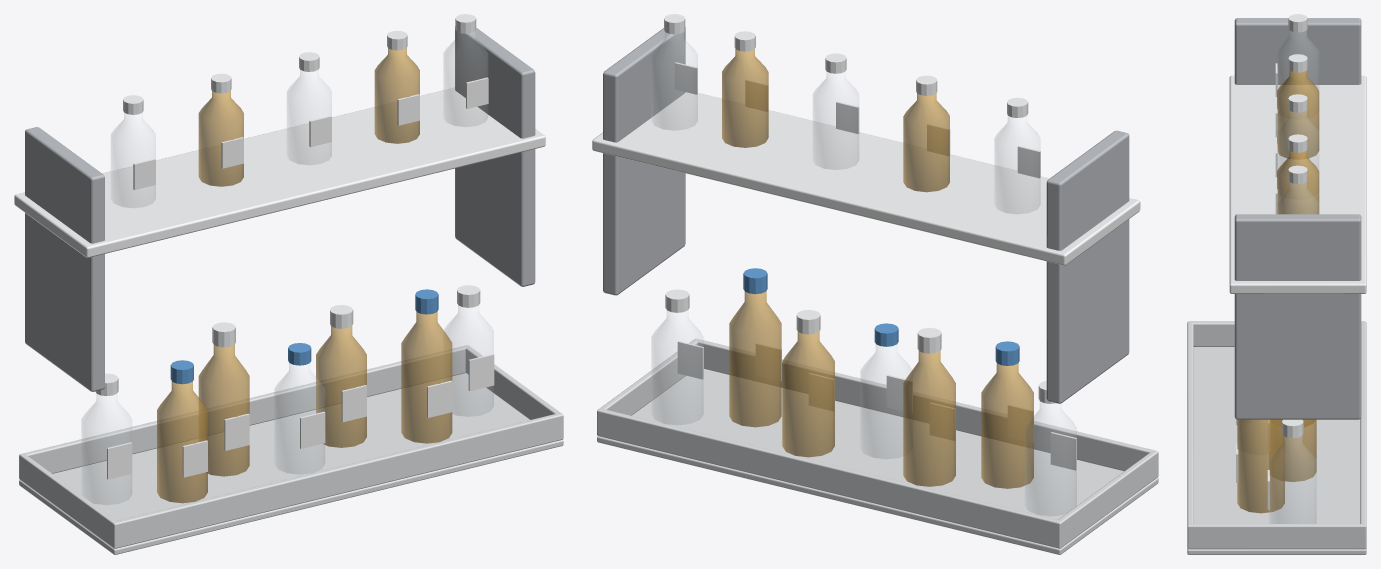
File: solvent-bottle-shelf.glb
The picture shows the model from 3 angles, left to right: view 1: azimuth 30°, elevation 25°; view 2: azimuth 150°, elevation 25°; view 3: azimuth 270°, elevation 25°; orthographic projection. The views are drawn at different scales.
Visible parts, largest first — view 1: solvent-bottle-shelf; view 2: solvent-bottle-shelf; view 3: solvent-bottle-shelf.
Boxes of the visible parts, x1,y1,x2,y2 form: solvent-bottle-shelf: (14,14,563,554); solvent-bottle-shelf: (592,14,1158,554); solvent-bottle-shelf: (1187,14,1366,554).
Size of the model in its own units: 0.94 by 0.77 by 0.34.
